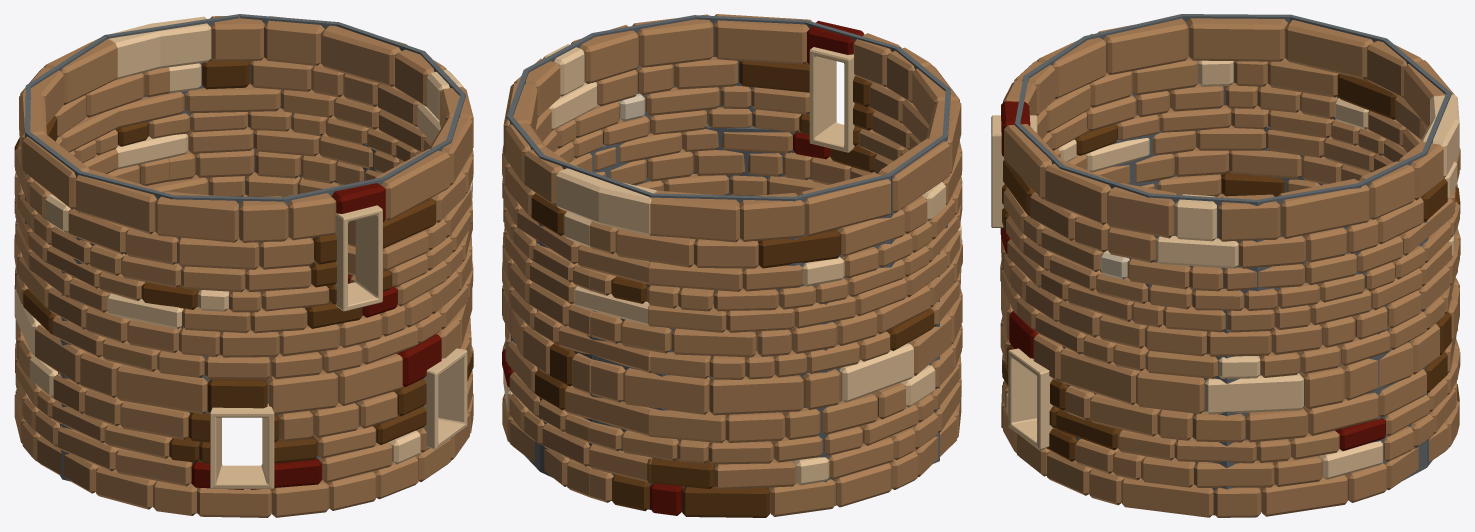
Rendered from mid-section-with-three-slits.glb.
3 renders of one model, left to right at view 1: azimuth 30°, elevation 25°; view 2: azimuth 150°, elevation 25°; view 3: azimuth 270°, elevation 25°, orthographic.
Visible parts, largest first — view 1: main-wall.086, grout-wall.001, upper-slit-frame, right-slit-frame, left-slit-frame; view 2: main-wall.086, grout-wall.001, upper-slit-frame; view 3: main-wall.086, grout-wall.001, right-slit-frame, upper-slit-frame.
Boxes of the visible parts, x1=… form: main-wall.086: x1=14, y1=16, x2=473, y2=517; grout-wall.001: x1=25, y1=14, x2=465, y2=513; upper-slit-frame: x1=334, y1=205, x2=382, y2=311; right-slit-frame: x1=422, y1=348, x2=467, y2=449; left-slit-frame: x1=210, y1=404, x2=274, y2=488; main-wall.086: x1=502, y1=14, x2=962, y2=517; grout-wall.001: x1=507, y1=15, x2=950, y2=512; upper-slit-frame: x1=809, y1=47, x2=855, y2=152; main-wall.086: x1=1000, y1=18, x2=1460, y2=517; grout-wall.001: x1=1014, y1=14, x2=1451, y2=515; right-slit-frame: x1=1008, y1=348, x2=1053, y2=449; upper-slit-frame: x1=991, y1=115, x2=1037, y2=227.
Bounding box in the file's own units: 2 × 1.51 × 2.04.
